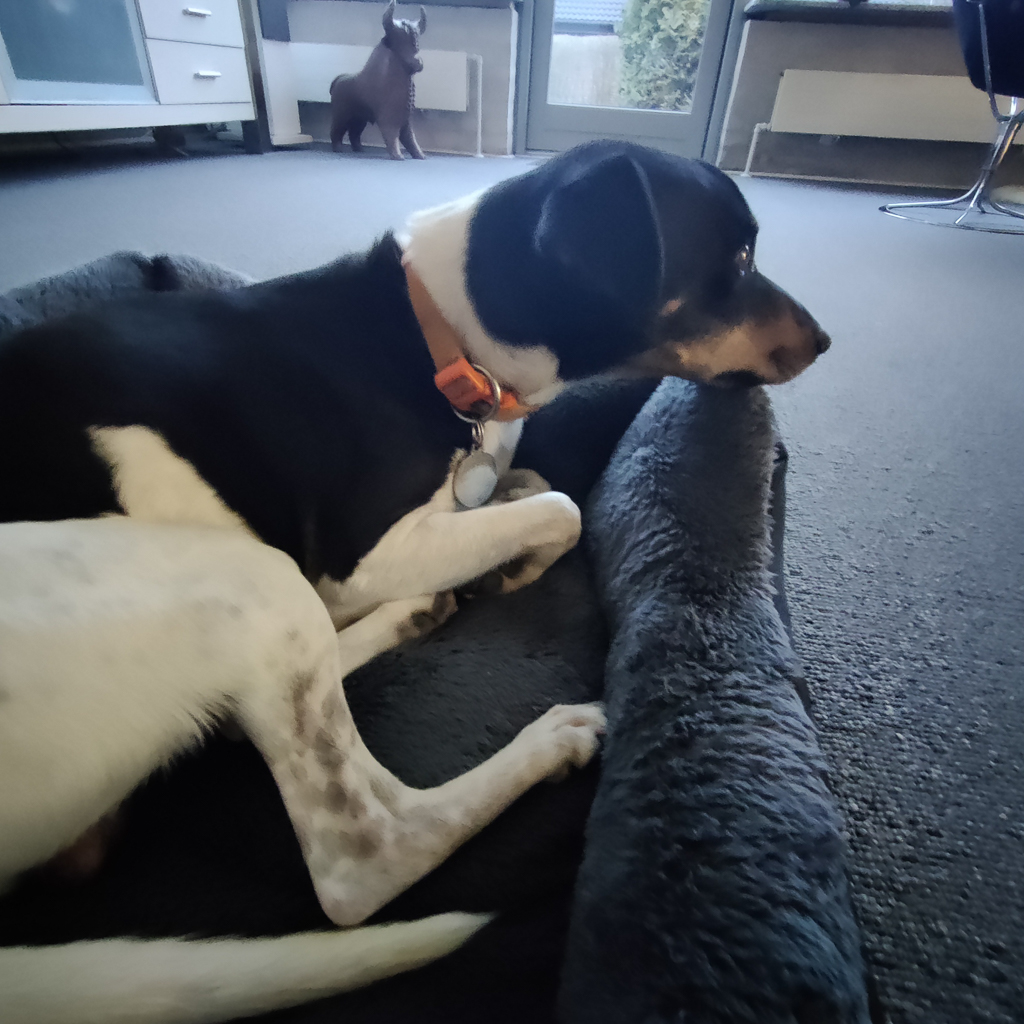Cattle: (316, 0, 442, 172)
Dog: (0, 128, 852, 1024)
